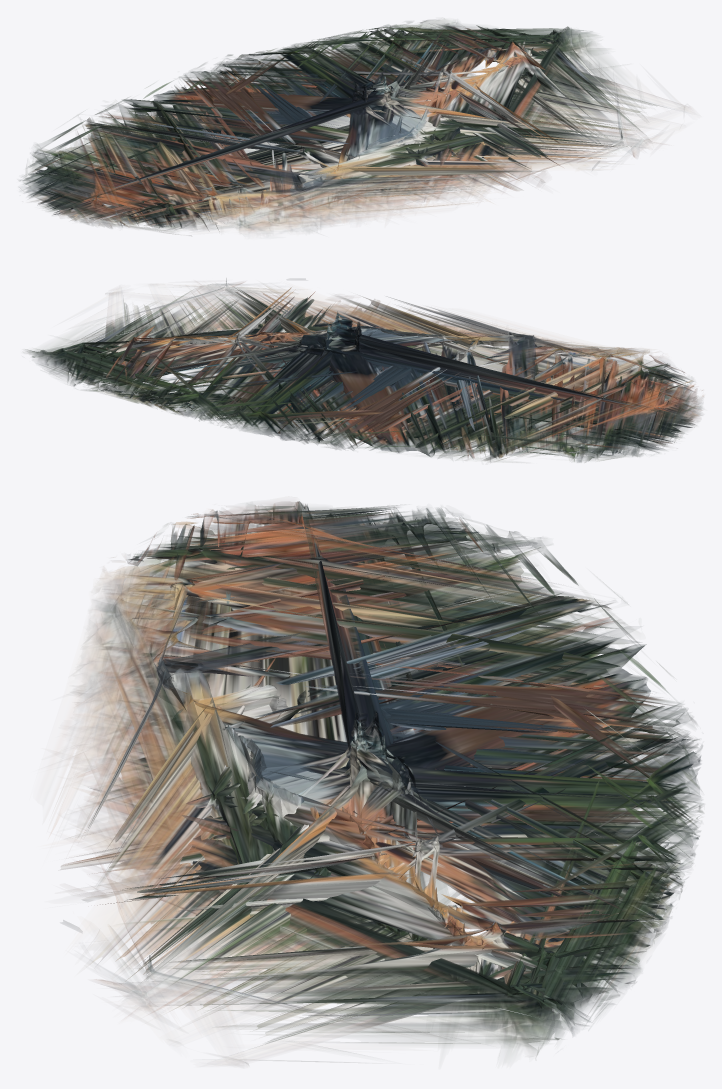
File: hradcany-horizon.glb
3 renders of one model, top to bottom at view 1: azimuth 30°, elevation 25°; view 2: azimuth 150°, elevation 25°; view 3: azimuth 270°, elevation 25°, orthographic. The views are drawn at different scales.
Visible parts, largest first — view 1: Ridge view 7, Ridge view 0, Ridge view 3, Ridge view 4, Ridge view 5, Ridge view 2, Ridge view 6, Ridge view 1; view 2: Ridge view 0, Ridge view 7, Ridge view 6, Ridge view 1, Ridge view 3, Ridge view 4, Ridge view 2, Ridge view 5; view 3: Ridge view 0, Ridge view 7, Ridge view 3, Ridge view 4, Ridge view 5, Ridge view 2, Ridge view 1, Ridge view 6.
Part boxes in pixels (x1,y1,x2,y2): Ridge view 7: [24, 20, 462, 221]; Ridge view 0: [26, 25, 567, 210]; Ridge view 3: [181, 24, 662, 224]; Ridge view 4: [114, 27, 644, 235]; Ridge view 5: [68, 38, 641, 230]; Ridge view 2: [231, 19, 645, 217]; Ridge view 6: [23, 69, 436, 230]; Ridge view 1: [95, 24, 642, 157]; Ridge view 0: [37, 313, 683, 461]; Ridge view 7: [95, 314, 696, 462]; Ridge view 6: [206, 313, 701, 459]; Ridge view 1: [32, 282, 488, 456]; Ridge view 3: [99, 285, 646, 385]; Ridge view 4: [35, 287, 677, 381]; Ridge view 2: [26, 280, 633, 396]; Ridge view 5: [75, 279, 703, 442]; Ridge view 0: [149, 511, 702, 1025]; Ridge view 7: [163, 504, 702, 963]; Ridge view 3: [78, 556, 649, 1045]; Ridge view 4: [60, 533, 560, 1062]; Ridge view 5: [63, 506, 534, 1014]; Ridge view 2: [103, 590, 669, 1054]; Ridge view 1: [98, 598, 700, 1065]; Ridge view 6: [124, 501, 614, 905].
Size of the model in its own units: 1236 by 141 by 688.
1 material, 1 textured.
